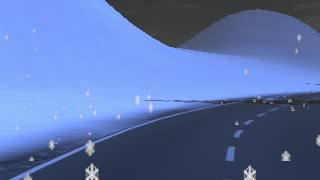Lane: (14, 92, 319, 179)
